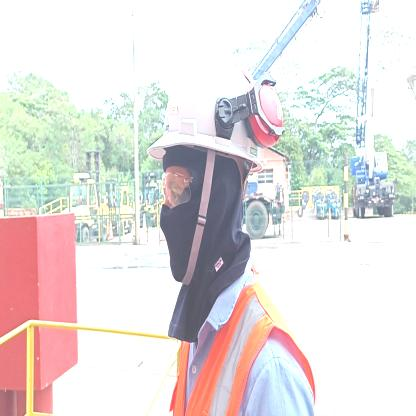Balaclava: (161, 151, 250, 279)
Capacete: (161, 54, 262, 153)
